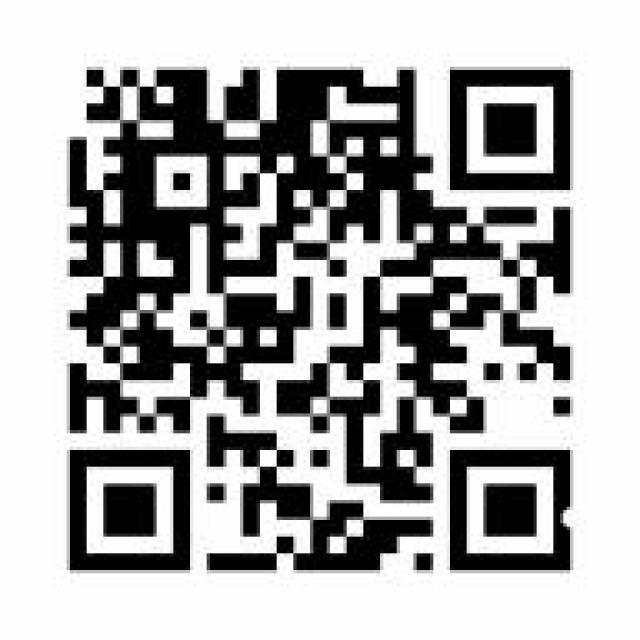qr_code: (69, 69, 571, 571)
